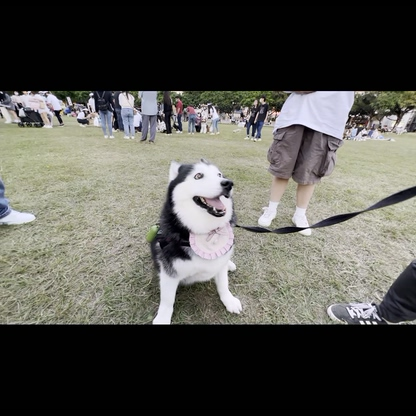husky: (143, 155, 247, 322)
